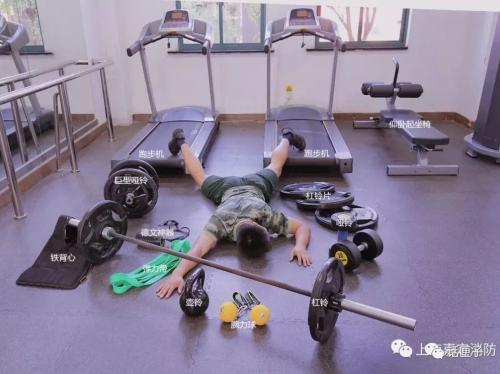down: (152, 122, 317, 301)
